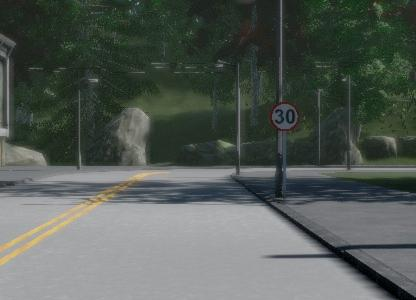Speed_30: (267, 99, 301, 134)
